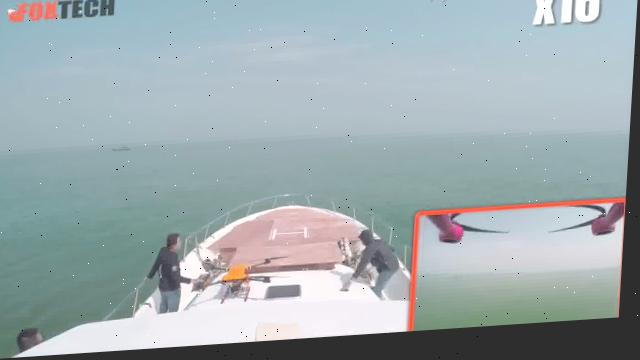drone: (414, 0, 460, 12)
